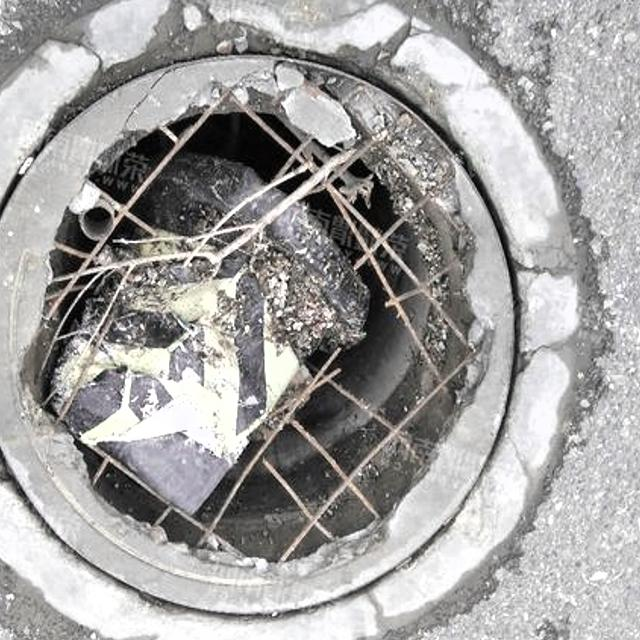broke: (0, 0, 618, 640)
